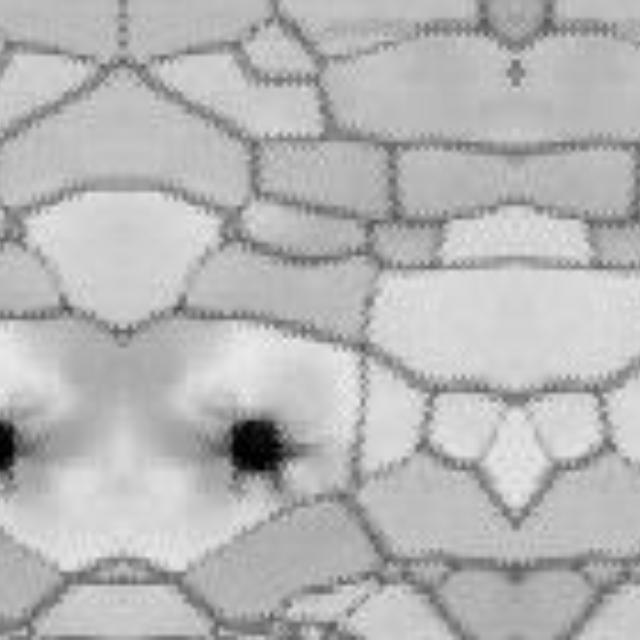good_void: (197, 410, 308, 502), (0, 414, 51, 502)
